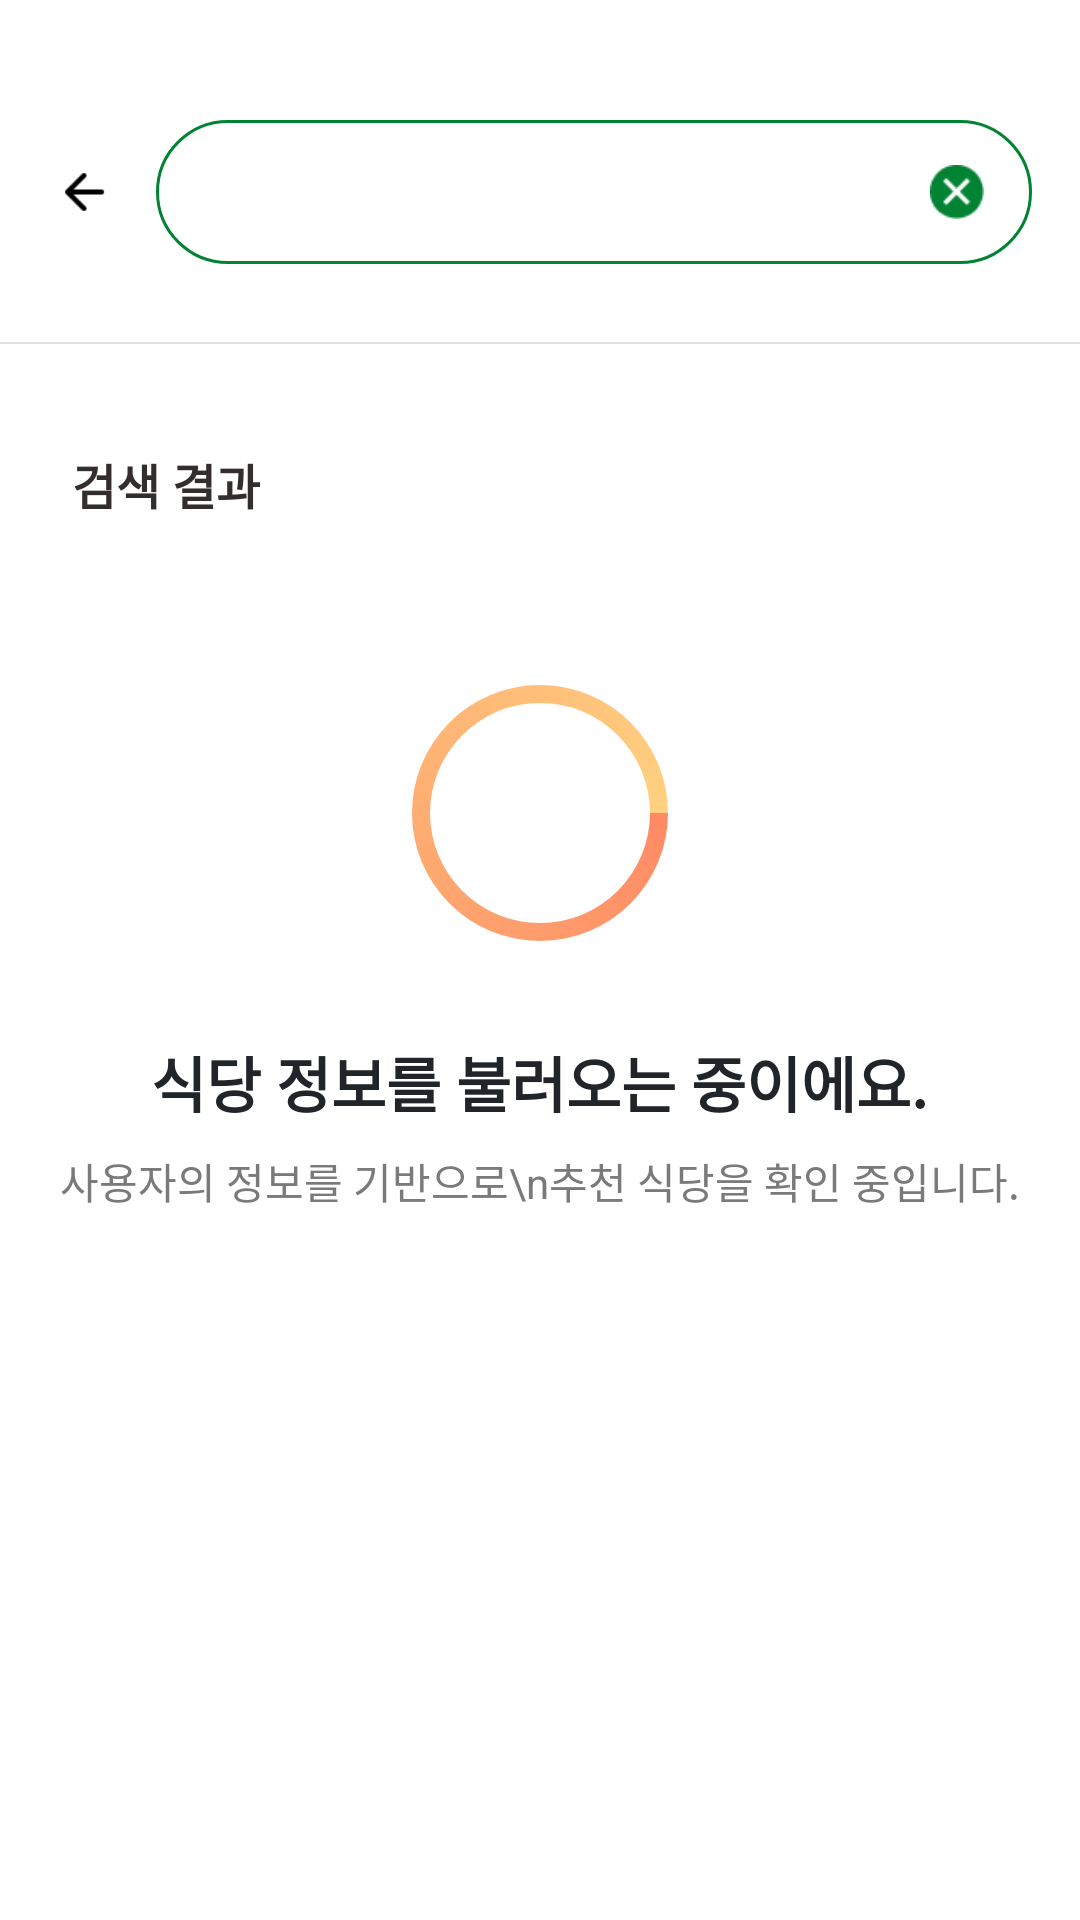

Named icons in this screenshot (1080px×1920px) and their centers, point (x, y):
arrow back: point (84, 192)
검색어 지우기: point (957, 192)
